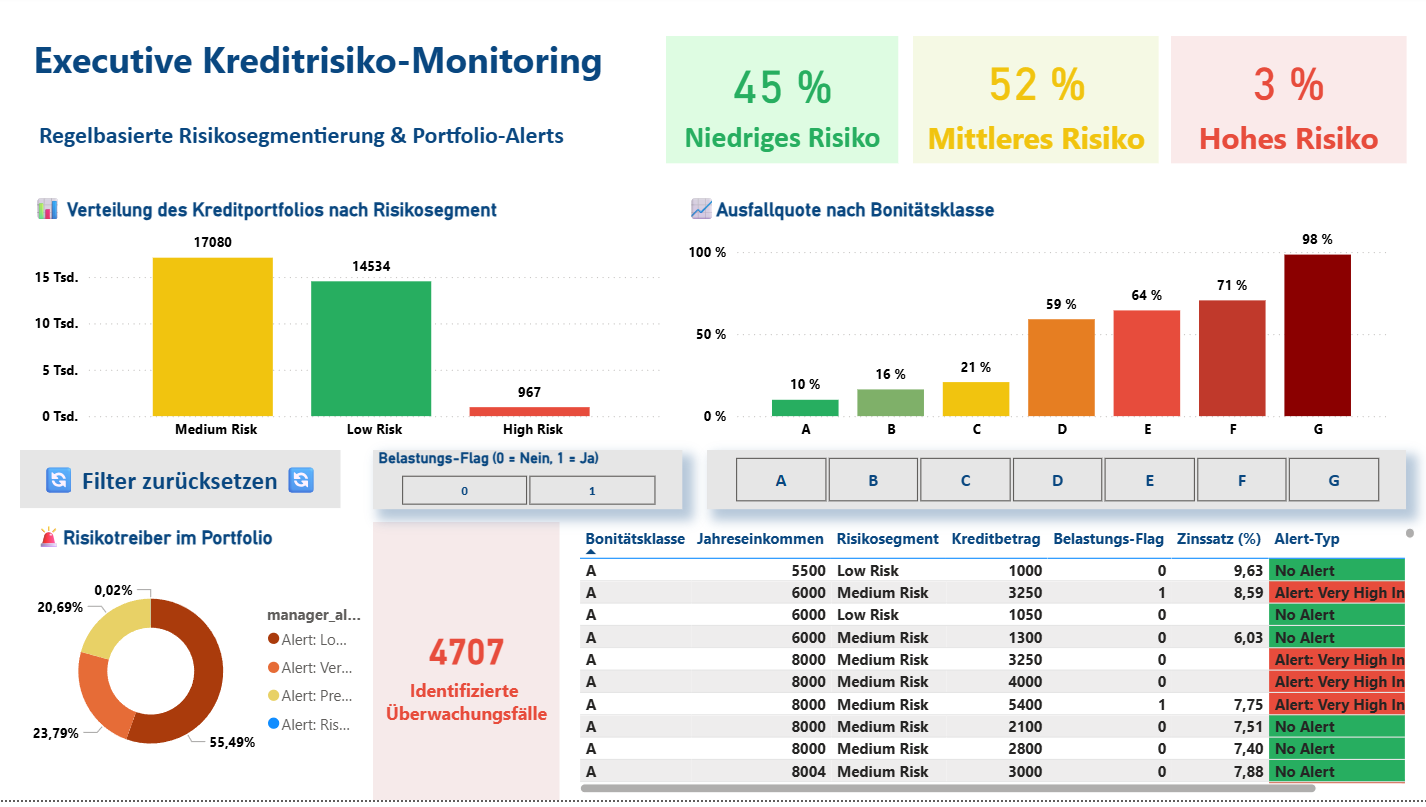

The page's visual inventory and layout, read from the dashboard file:
{"tool":"powerbi","page":{"name":" Vorstand Monitor mit Alert","canvas":[1280,720],"ordinal":1},"visuals":[{"type":"clusteredColumnChart","title":"📊 Verteilung des Kreditportfolios nach Risikosegment","fields":{"Category":["v_operational_risk_classification.risk_group"],"Y":["CountNonNull(v_operational_risk_classification.loan_status)"]},"box":[24.7,177.3,570.7,228.9],"z":0},{"type":"clusteredColumnChart","title":"📈Ausfallquote nach Bonitätsklasse","fields":{"Category":["v_final_risk_classification.loan_grade"],"Y":["v_final_risk_classification.Batik Orani"]},"box":[610.4,177.3,636.2,228.9],"z":1000},{"type":"card","fields":{"Values":["v_operational_risk_classification.High Risk %"]},"box":[1048.9,35.5,210.6,113.9],"z":2000},{"type":"card","fields":{"Values":["v_operational_risk_classification.Low Risk %"]},"box":[596.5,35.5,208.5,113.9],"z":3000},{"type":"card","fields":{"Values":["v_operational_risk_classification.Medium Risk %"]},"box":[817.9,35.5,220.3,113.9],"z":4000},{"type":"textbox","box":[24.7,29,559.9,77.4],"z":5000},{"type":"textbox","box":[24.7,106.4,559.9,43],"z":6000},{"type":"donutChart","title":"🚨Risikotreiber im Portfolio","fields":{"Category":["v_manager_alerts.manager_alert"],"Y":["CountNonNull(v_manager_alerts.manager_alert)"]},"box":[26,471,308.1,248.1],"z":7000},{"type":"tableEx","fields":{"Values":["v_manager_alerts.loan_grade","v_manager_alerts.person_income","v_manager_alerts.risk_group","v_manager_alerts.loan_amnt","v_manager_alerts.loan_percent_income","v_manager_alerts.loan_int_rate","v_manager_alerts.manager_alert"]},"box":[513.1,471,758.5,248.1],"z":8000},{"type":"card","fields":{"Values":["v_manager_alerts.Anzahl der Warnungen"]},"box":[334,471,167.5,249],"z":9000},{"type":"slicer","fields":{"Values":["v_final_risk_classification.loan_grade"]},"box":[633.1,406.6,626,52.8],"z":10000},{"type":"actionButton","box":[17.9,406.6,286.6,51.9],"z":11000},{"type":"slicer","title":"Belastungs-Flag (0 = Nein, 1 = Ja)","fields":{"Values":["v_manager_alerts.loan_status"]},"box":[334,406.6,276.7,52.8],"z":12000}]}

Visuals, with their boxes in screenshot pixels (x1, y1, x2, y2), scaled from the page's 1280x720 canvas onto the 1426x807 screenshot:
"📊 Verteilung des Kreditportfolios nach Risikosegment" clusteredColumnChart: (x1=28, y1=199, x2=663, y2=455)
"📈Ausfallquote nach Bonitätsklasse" clusteredColumnChart: (x1=680, y1=199, x2=1389, y2=455)
card - v_operational_risk_classification.High Risk %: (x1=1169, y1=40, x2=1403, y2=167)
card - v_operational_risk_classification.Low Risk %: (x1=665, y1=40, x2=897, y2=167)
card - v_operational_risk_classification.Medium Risk %: (x1=911, y1=40, x2=1157, y2=167)
textbox: (x1=28, y1=33, x2=651, y2=119)
textbox: (x1=28, y1=119, x2=651, y2=167)
"🚨Risikotreiber im Portfolio" donutChart: (x1=29, y1=528, x2=372, y2=806)
tableEx - v_manager_alerts.loan_grade x v_manager_alerts.person_income: (x1=572, y1=528, x2=1417, y2=806)
card - v_manager_alerts.Anzahl der Warnungen: (x1=372, y1=528, x2=559, y2=806)
slicer - v_final_risk_classification.loan_grade: (x1=705, y1=456, x2=1403, y2=515)
actionButton: (x1=20, y1=456, x2=339, y2=514)
"Belastungs-Flag (0 = Nein, 1 = Ja)" slicer: (x1=372, y1=456, x2=680, y2=515)
